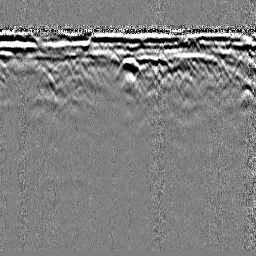cavity: (113, 54, 143, 78)
